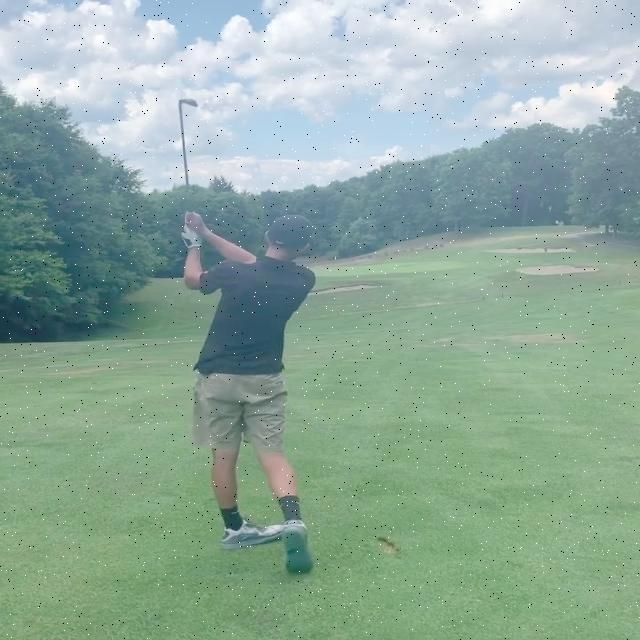golf club-handle: (178, 97, 202, 241)
golf club-head: (180, 98, 199, 107)
